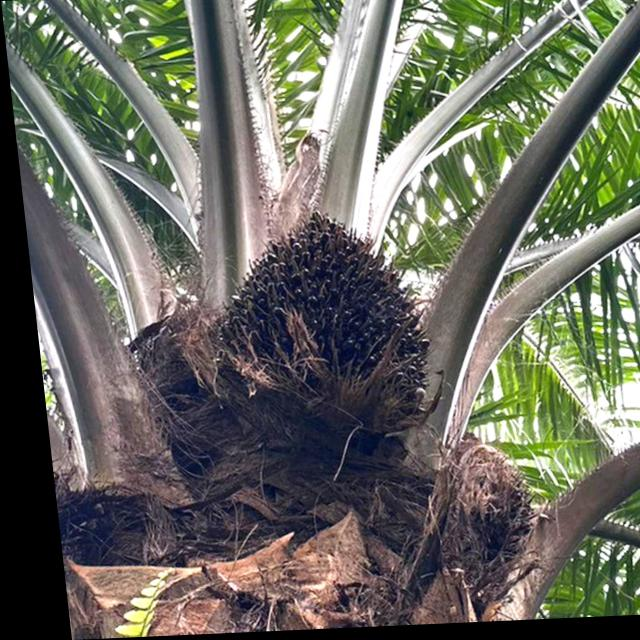unripe: (187, 207, 430, 431)
